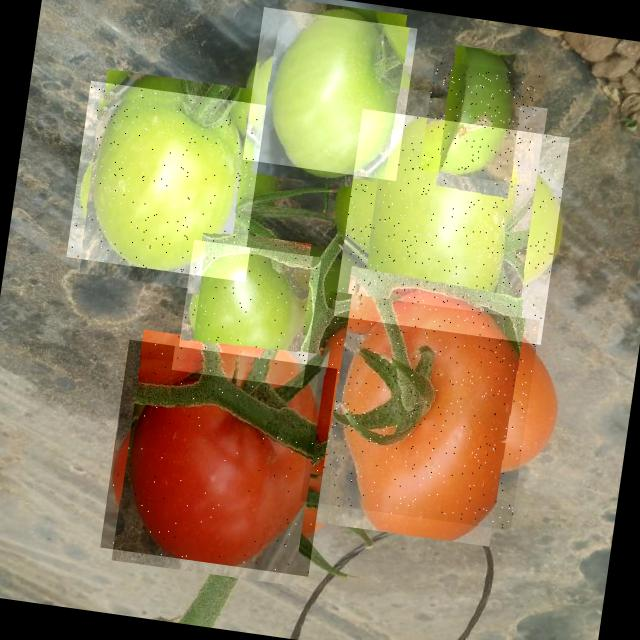Ripe Tomato: (301, 292, 540, 530), (100, 340, 338, 577)
Unripe Tomato: (333, 109, 570, 345), (66, 81, 266, 282), (242, 7, 418, 181), (172, 239, 321, 388), (420, 61, 545, 186)
